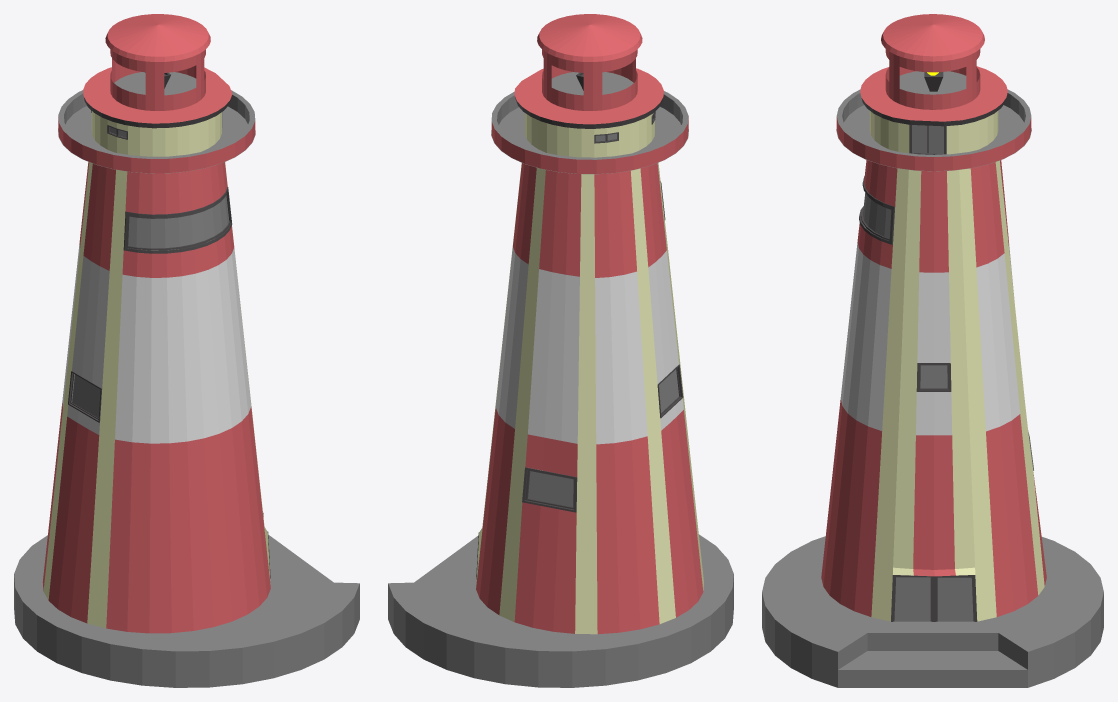
The model's file is lighthouse.fbx.
3 views of the same model, side by side, from view 1: azimuth 30°, elevation 25°; view 2: azimuth 150°, elevation 25°; view 3: azimuth 270°, elevation 25° (orthographic).
Parts seen in each view (by area): view 1: Cylinder; view 2: Cylinder; view 3: Cylinder.
Boxes of the visible parts, box(x1,y1,x2,y2) form: Cylinder: box(14, 14, 359, 687); Cylinder: box(388, 14, 733, 687); Cylinder: box(762, 14, 1103, 687).
Size of the model in its own units: 400 by 832 by 437.
